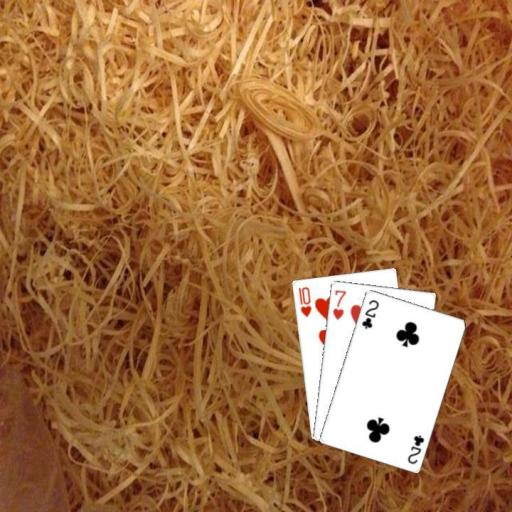10H: (295, 284, 313, 318)
2C: (358, 296, 380, 330), (404, 432, 425, 465)
7H: (329, 287, 348, 322)
